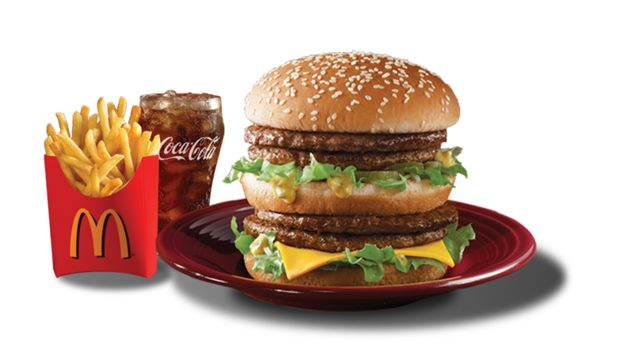mcdonalds: (64, 206, 135, 263)
